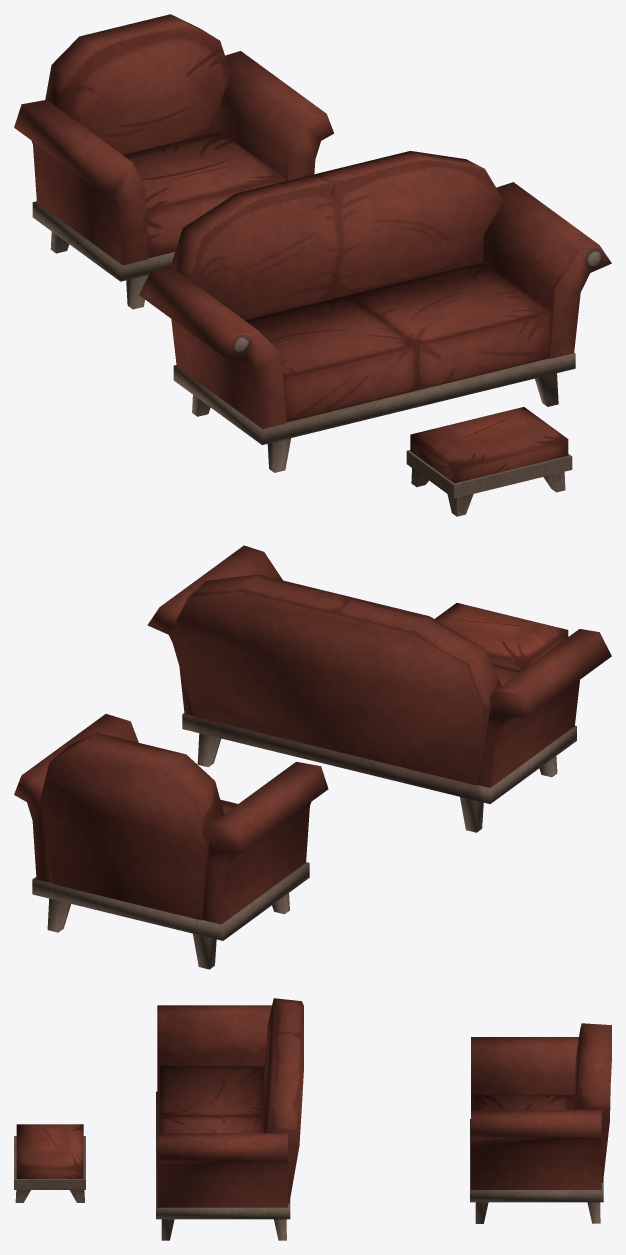
File: Couches.fbx
The picture shows the model from 3 angles, top to bottom: view 1: azimuth 30°, elevation 25°; view 2: azimuth 150°, elevation 25°; view 3: azimuth 270°, elevation 25°; orthographic projection. The views are drawn at different scales.
Parts seen in each view (by area): view 1: Sofa, Sofa Chair, ottoman; view 2: Sofa, Sofa Chair, ottoman; view 3: Sofa, Sofa Chair, ottoman.
Part boxes in pixels (<box>): Sofa: <box>139,151,611,472</box>; Sofa Chair: <box>14,14,334,309</box>; ottoman: <box>406,407,572,516</box>; Sofa: <box>147,545,611,832</box>; Sofa Chair: <box>14,714,328,969</box>; ottoman: <box>435,603,568,670</box>; Sofa: <box>156,998,303,1240</box>; Sofa Chair: <box>470,1023,611,1223</box>; ottoman: <box>14,1124,85,1202</box>.
Bounding box in the file's own units: 357 × 630 × 182.
3 materials, 3 textured.
